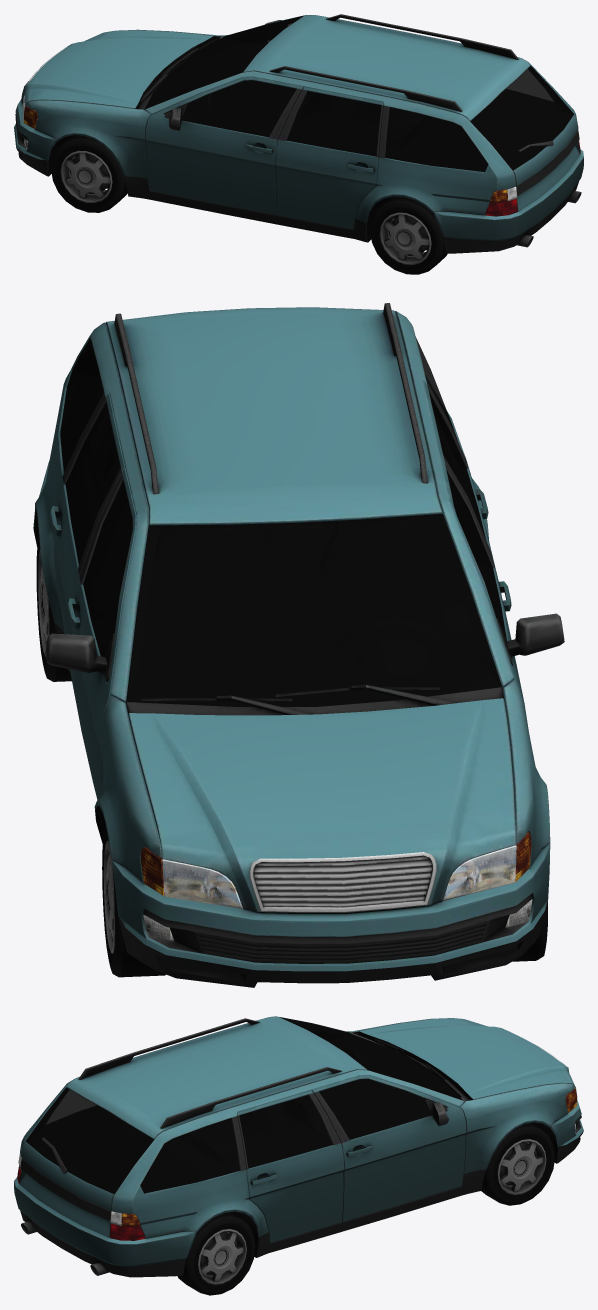
File: pack_wagon.glb
3 renders of one model, top to bottom at view 1: azimuth 30°, elevation 25°; view 2: azimuth 150°, elevation 25°; view 3: azimuth 270°, elevation 25°, orthographic. The views are drawn at different scales.
Visible parts, largest first — view 1: Wagon Body_Body_0, Wagon Body_Glass_0, Wheel_A_Wheel_0, Wagon Body_Optics_0; view 2: Wagon Body_Body_0, Wagon Body_Glass_0, Wagon Body_Optics_0, Wheel_A_Wheel_0; view 3: Wagon Body_Body_0, Wagon Body_Glass_0, Wheel_A_Wheel_0, Wagon Body_Optics_0.
Boxes of the visible parts, x1=… form: Wagon Body_Body_0: x1=14, y1=14, x2=583, y2=253; Wagon Body_Glass_0: x1=144, y1=15, x2=573, y2=171; Wheel_A_Wheel_0: x1=51, y1=88, x2=447, y2=274; Wagon Body_Optics_0: x1=23, y1=95, x2=580, y2=216; Wagon Body_Body_0: x1=33, y1=303, x2=564, y2=987; Wagon Body_Glass_0: x1=60, y1=338, x2=506, y2=706; Wagon Body_Optics_0: x1=140, y1=832, x2=532, y2=941; Wheel_A_Wheel_0: x1=36, y1=534, x2=547, y2=977; Wagon Body_Body_0: x1=14, y1=1016, x2=583, y2=1277; Wagon Body_Glass_0: x1=25, y1=1017, x2=464, y2=1193; Wheel_A_Wheel_0: x1=177, y1=1123, x2=554, y2=1295; Wagon Body_Optics_0: x1=17, y1=1088, x2=577, y2=1240.
Bounding box in the file's own units: 3.43 × 1.38 × 4.09.
Materials: 4 (3 with a texture image).
